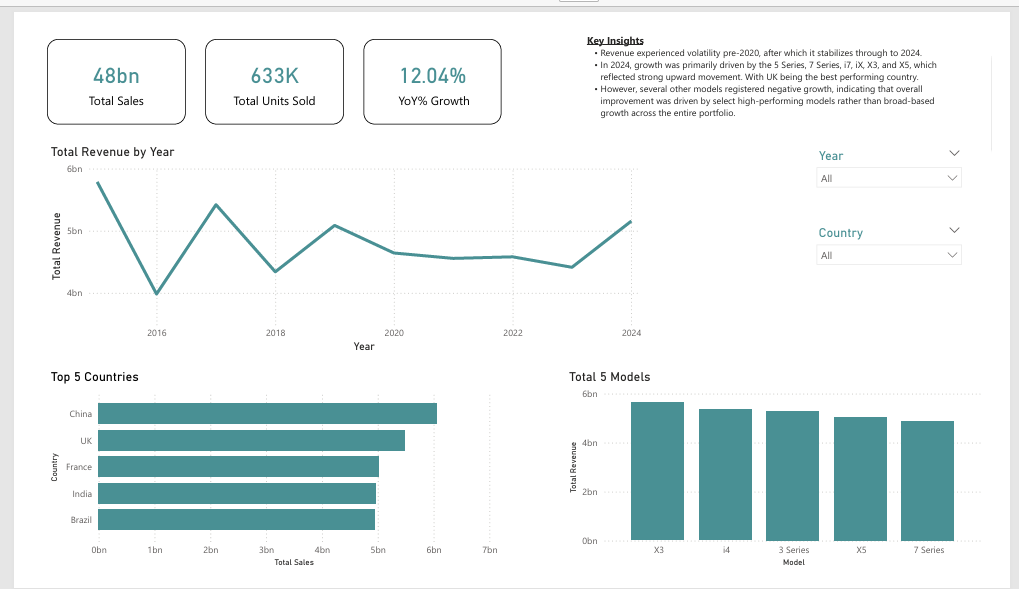

The dashboard page shown, as its layout file describes it:
{"tool":"powerbi","page":{"name":"Page 1","canvas":[1280,720],"ordinal":0},"visuals":[{"type":"lineChart","title":"Total Revenue by Year","fields":{"Category":["bmw_global_sales_dataset.new_date.Variation.Date Hierarchy.Year"],"Y":["Sum(bmw_global_sales_dataset.total_sales)"]},"box":[20.5,152.2,796.1,282.4],"z":0},{"type":"card","fields":{"Values":["Sum(bmw_global_sales_dataset.total_sales)"]},"box":[20.5,11.7,184.4,114.1],"z":1000},{"type":"card","fields":{"Values":["Sum(bmw_global_sales_dataset.units_sold)"]},"box":[231.2,11.7,184.4,114.1],"z":2000},{"type":"card","fields":{"Values":["bmw_global_sales_dataset.Sum of total_sales YoY%"]},"box":[442,11.7,184.4,114.1],"z":3000},{"type":"clusteredBarChart","title":"Top 5  Countries","fields":{"Category":["bmw_global_sales_dataset.country"],"Y":["Sum(bmw_global_sales_dataset.total_sales)"]},"box":[20.5,452.2,605.9,267.8],"z":4000},{"type":"clusteredColumnChart","title":"Total 5 Models","fields":{"Y":["Sum(bmw_global_sales_dataset.total_sales)"],"Category":["bmw_global_sales_dataset.model"]},"box":[711.2,452.2,562,267.8],"z":5000},{"type":"slicer","fields":{"Values":["bmw_global_sales_dataset.new_date.Variation.Date Hierarchy.Year"]},"box":[1036.1,152.2,213.7,79],"z":6000},{"type":"slicer","fields":{"Values":["bmw_global_sales_dataset.country"]},"box":[1036.1,254.6,213.7,79],"z":7000},{"type":"textbox","box":[734.6,0,515.1,152.2],"z":7001}]}

Visuals, with their boxes in screenshot pixels (x1, y1, x2, y2), scaled from the page's 1280x720 canvas onto the 1019x589 screenshot:
"Total Revenue by Year" lineChart: [left=16, top=125, right=650, bottom=356]
card - Sum(bmw_global_sales_dataset.total_sales): [left=16, top=10, right=163, bottom=103]
card - Sum(bmw_global_sales_dataset.units_sold): [left=184, top=10, right=331, bottom=103]
card - bmw_global_sales_dataset.Sum of total_sales YoY%: [left=352, top=10, right=499, bottom=103]
"Top 5  Countries" clusteredBarChart: [left=16, top=370, right=499, bottom=588]
"Total 5 Models" clusteredColumnChart: [left=566, top=370, right=1014, bottom=588]
slicer - bmw_global_sales_dataset.new_date.Variation.Date Hierarchy.Year: [left=825, top=125, right=995, bottom=189]
slicer - bmw_global_sales_dataset.country: [left=825, top=208, right=995, bottom=273]
textbox: [left=585, top=0, right=995, bottom=125]
